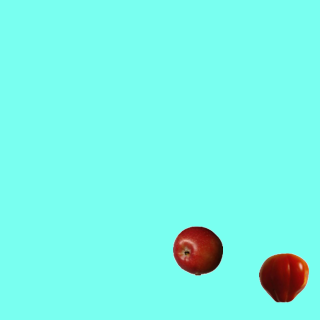Apple Braeburn: (172, 225, 222, 275)
Tomato 1: (258, 252, 308, 302)
